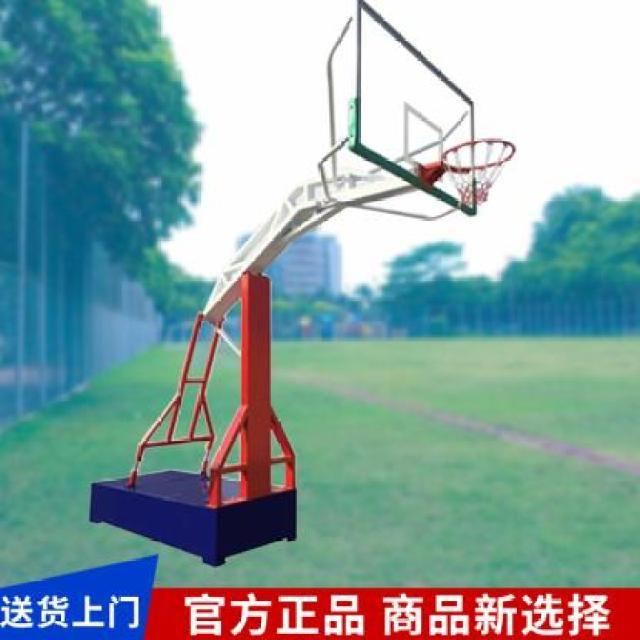rim: (442, 136, 518, 207)
